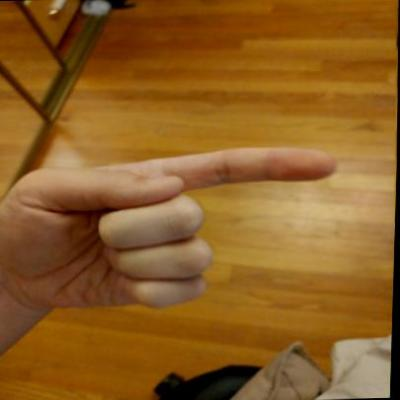hand: (0, 140, 350, 320)
